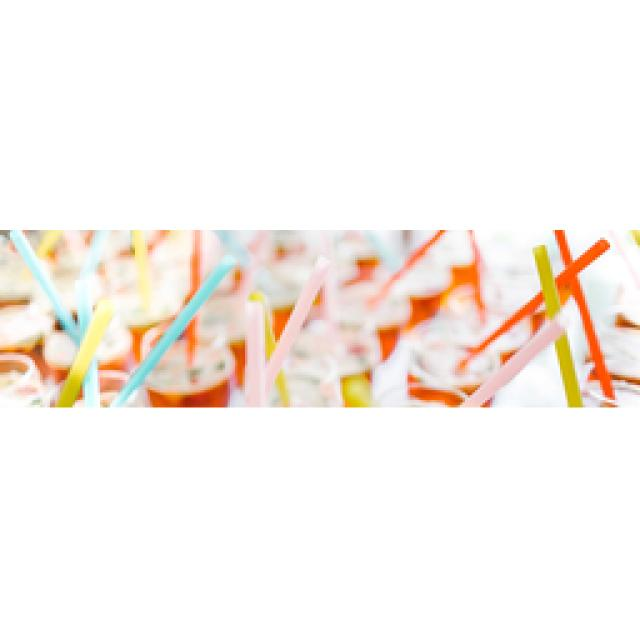plastic: (0, 227, 638, 405), (110, 253, 238, 405), (552, 228, 618, 402), (260, 252, 330, 402), (530, 243, 582, 405), (8, 228, 78, 342), (53, 295, 115, 405)
